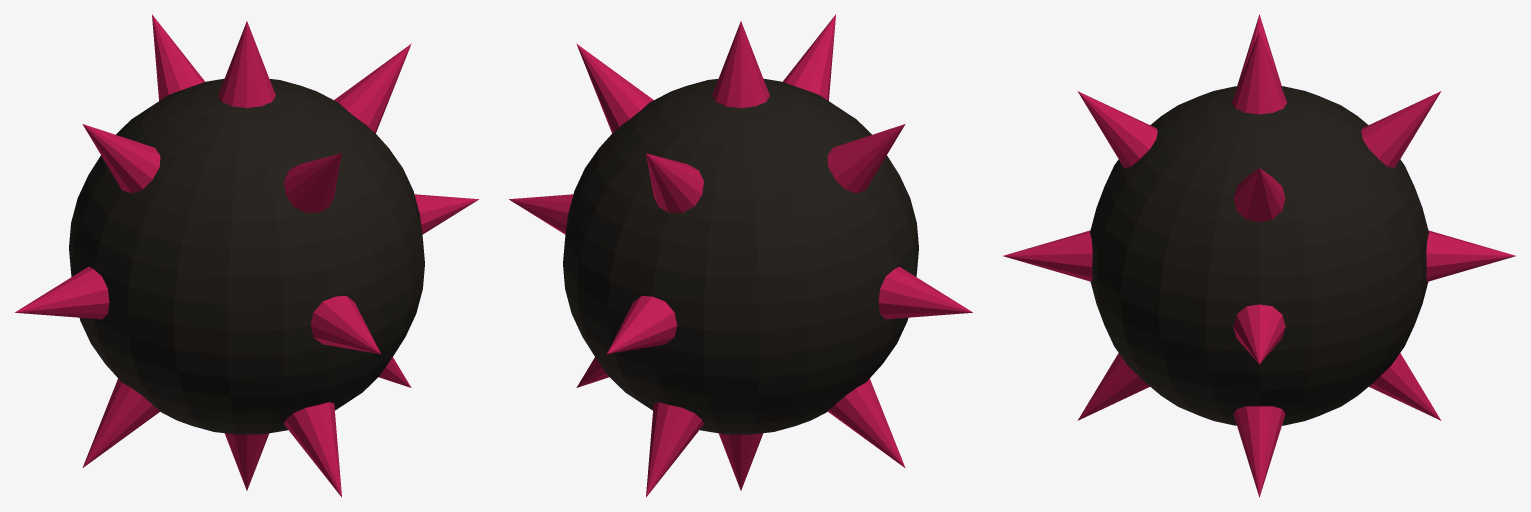
Rendered from Sharik.fbx.
The picture shows the model from 3 angles, left to right: view 1: azimuth 30°, elevation 25°; view 2: azimuth 150°, elevation 25°; view 3: azimuth 270°, elevation 25°; orthographic projection. The views are drawn at different scales.
Parts seen in each view (by area): view 1: Sphere, Cone.005, Cone.009, Cone.007, Cone.010, Cone.002, Cone.013, Cone.011, Cone.006, Cone, Cone.004, Cone.001; view 2: Sphere, Cone.005, Cone.008, Cone.007, Cone.010, Cone.003, Cone.013, Cone.011, Cone, Cone.006, Cone.004, Cone.001; view 3: Sphere, Cone.012, Cone.007, Cone, Cone.006, Cone.002, Cone.003, Cone.004, Cone.011, Cone.008, Cone.009.
Part boxes in pixels (box(x1,y1,x2,y2)): Sphere: box(69, 78, 424, 434); Cone.005: box(15, 266, 109, 319); Cone.009: box(284, 402, 341, 497); Cone.007: box(218, 21, 275, 108); Cone.010: box(82, 124, 160, 193); Cone.002: box(310, 295, 380, 354); Cone.013: box(82, 378, 160, 468); Cone.011: box(334, 43, 411, 133); Cone.006: box(284, 153, 341, 212); Cone: box(152, 14, 204, 100); Cone.004: box(414, 194, 478, 234); Cone.001: box(224, 433, 269, 490); Sphere: box(563, 78, 918, 434); Cone.005: box(878, 266, 972, 319); Cone.008: box(646, 402, 703, 497); Cone.007: box(712, 21, 769, 108); Cone.010: box(827, 124, 905, 193); Cone.003: box(607, 295, 677, 354); Cone.013: box(827, 378, 905, 468); Cone.011: box(576, 43, 653, 133); Cone: box(646, 153, 703, 212); Cone.006: box(783, 14, 835, 100); Cone.004: box(509, 194, 573, 234); Cone.001: box(718, 433, 763, 490); Sphere: box(1090, 86, 1428, 425); Cone.012: box(1233, 406, 1285, 497); Cone.007: box(1231, 31, 1287, 114); Cone: box(1361, 91, 1441, 167); Cone.006: box(1077, 91, 1157, 167); Cone.002: box(1003, 230, 1092, 281); Cone.003: box(1426, 230, 1515, 281); Cone.004: box(1233, 304, 1285, 364); Cone.011: box(1233, 168, 1285, 221); Cone.008: box(1369, 353, 1441, 420); Cone.009: box(1077, 353, 1149, 420).
Bounding box in the file's own units: 300 × 290 × 300.
